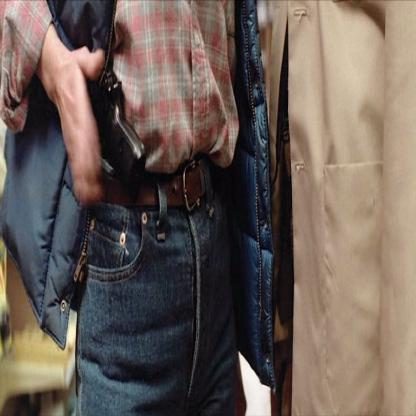gun: (99, 61, 150, 214)
